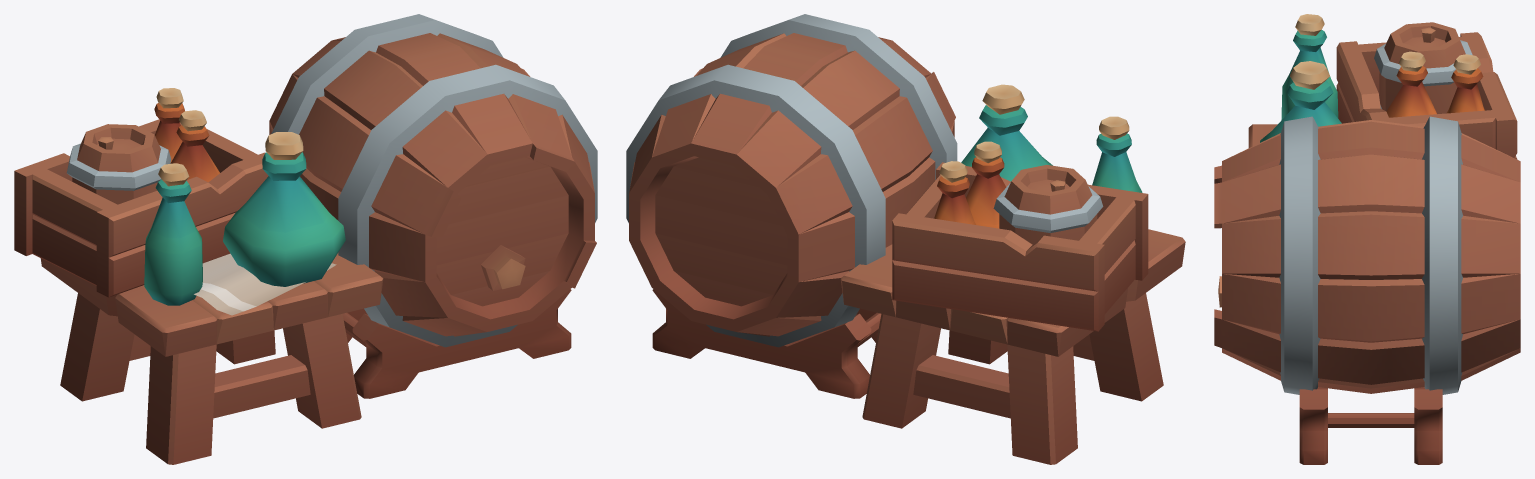
Rendered from keg_decorated.gltf.
3 renders of one model, left to right at view 1: azimuth 30°, elevation 25°; view 2: azimuth 150°, elevation 25°; view 3: azimuth 270°, elevation 25°, orthographic. The views are drawn at different scales.
Visible parts, largest first — view 1: keg_decorated; view 2: keg_decorated; view 3: keg_decorated.
Part boxes in pixels (left/top/right/bottom): keg_decorated: left=14, top=14, right=597, bottom=464; keg_decorated: left=626, top=14, right=1185, bottom=464; keg_decorated: left=1214, top=14, right=1520, bottom=464.
Size of the model in its own units: 3.52 by 2.05 by 2.
Materials: 1 (1 with a texture image).
